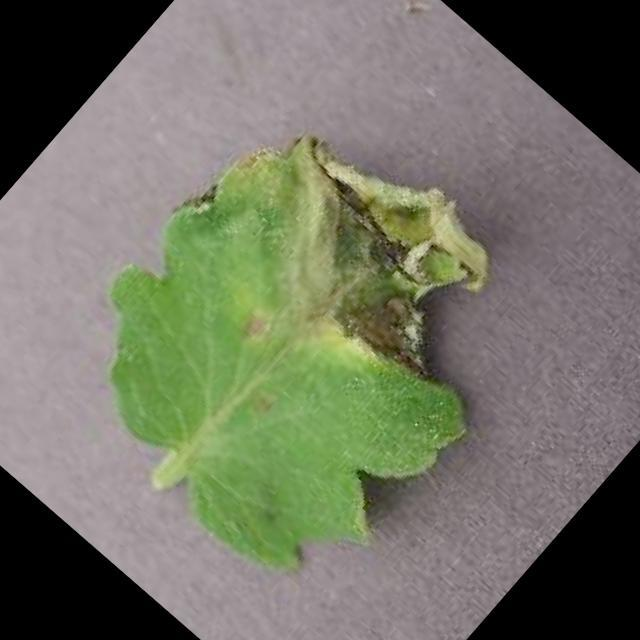Tomato late blight leaf: (25, 61, 578, 617)
